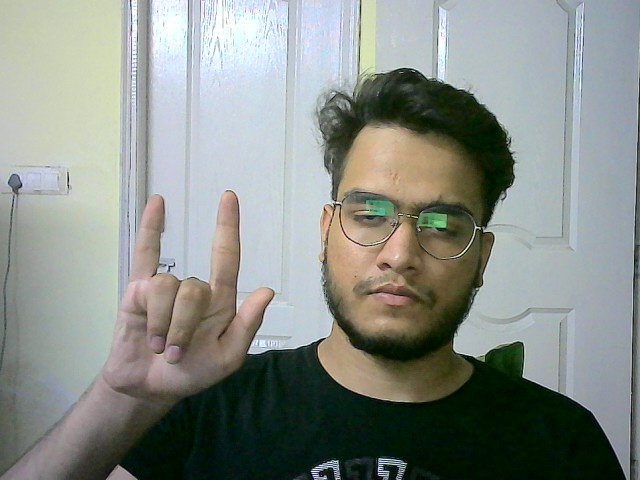I Love You: (105, 185, 281, 402)
